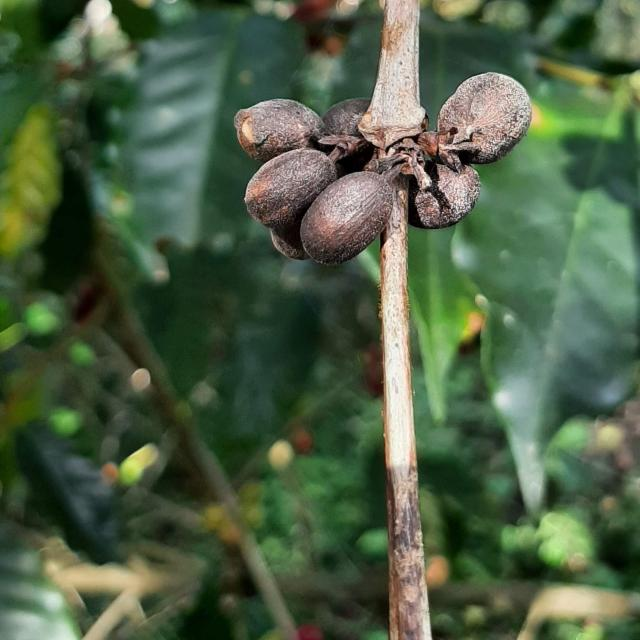red: (300, 171, 393, 265), (438, 72, 533, 164), (244, 148, 337, 227), (234, 98, 323, 162), (409, 163, 481, 229), (322, 98, 371, 136), (269, 220, 310, 260)
